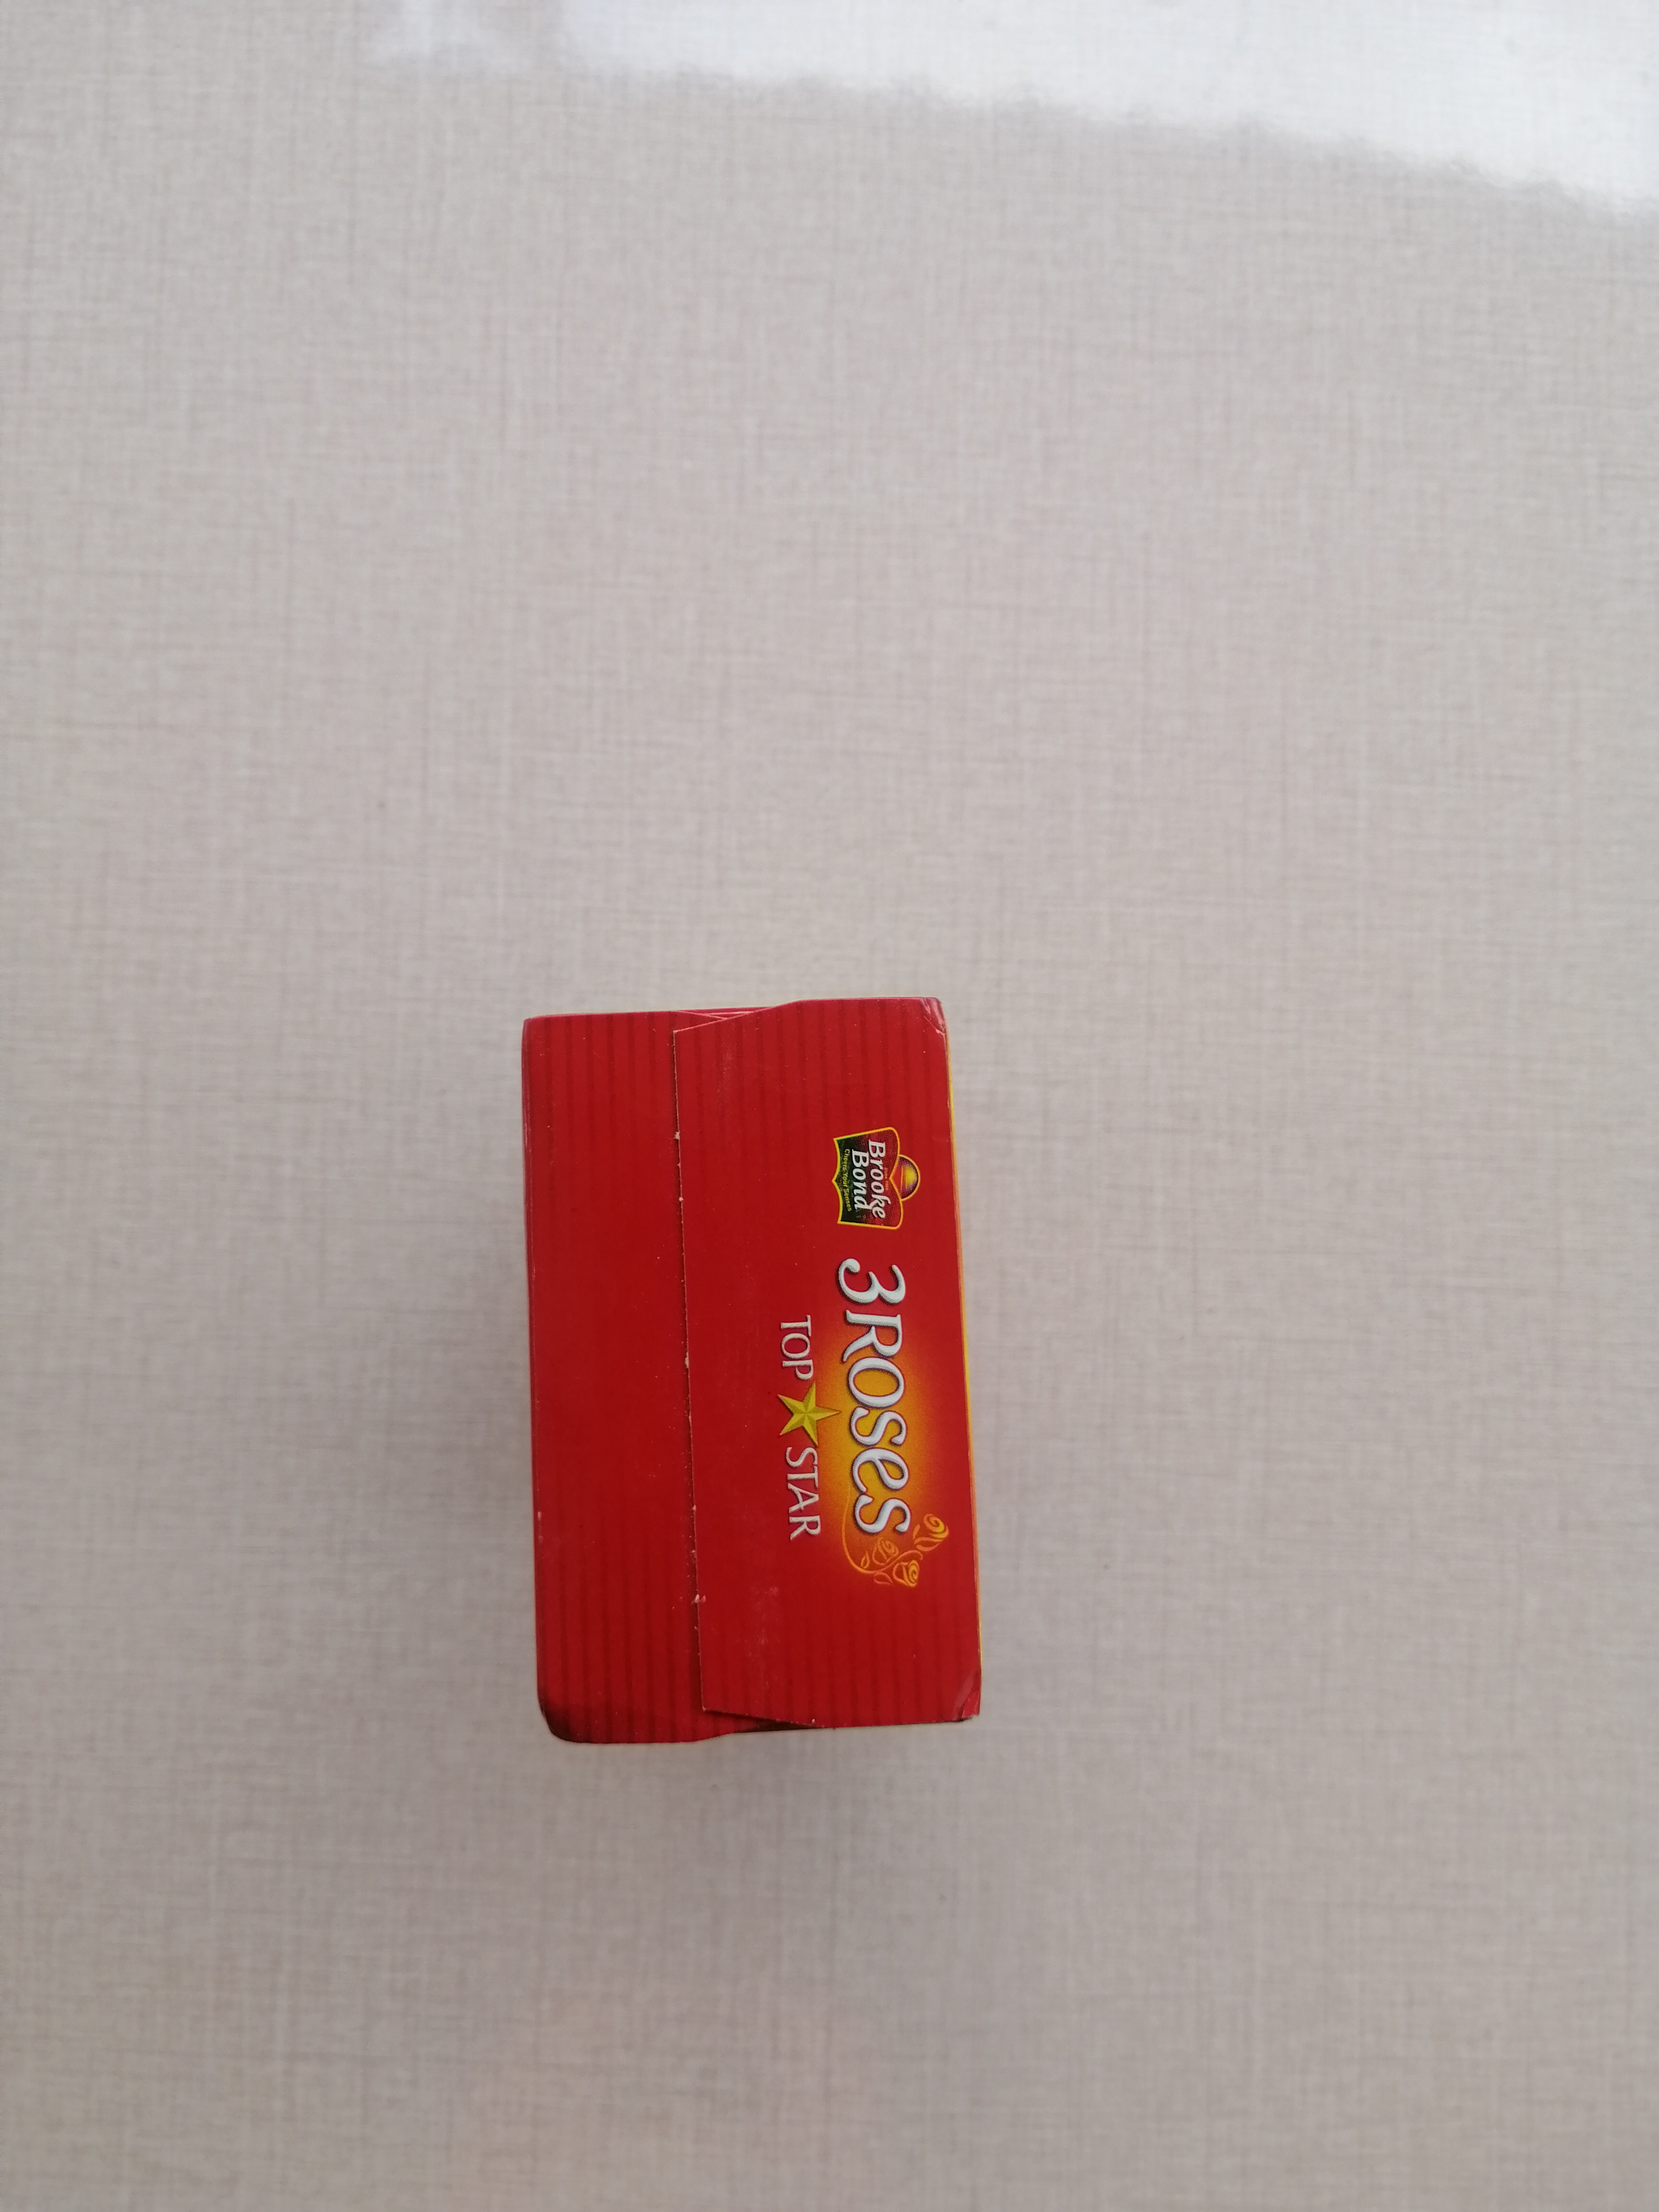3roses_top_star: (516, 1008, 993, 1735)
